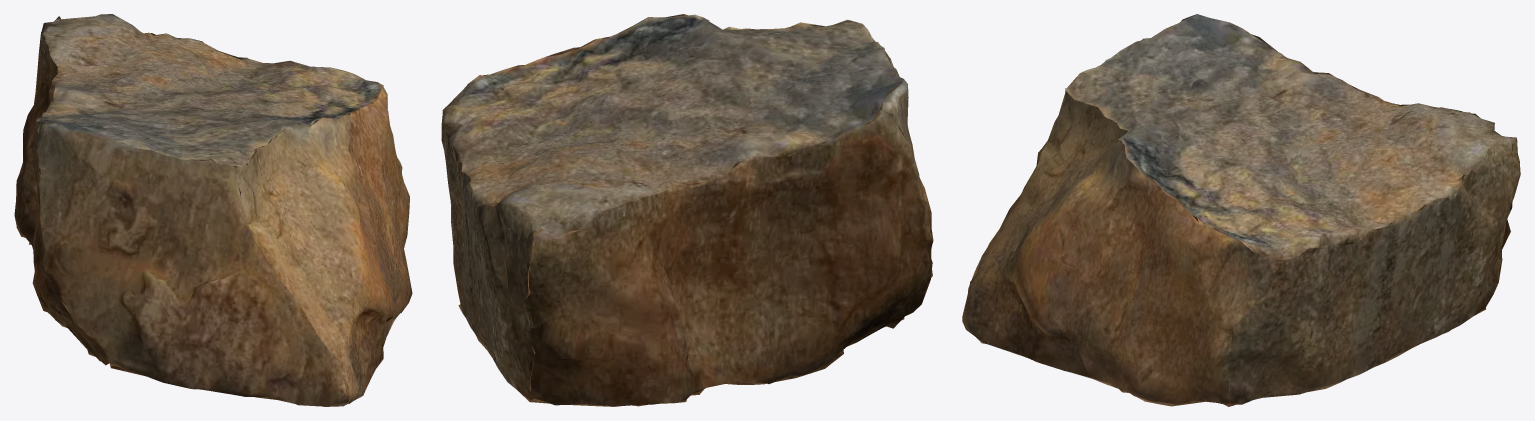
Rendered from namaqualand_boulder_03.glb.
3 renders of one model, left to right at view 1: azimuth 30°, elevation 25°; view 2: azimuth 150°, elevation 25°; view 3: azimuth 270°, elevation 25°, orthographic. The views are drawn at different scales.
Parts seen in each view (by area): view 1: boulder_03_LOD0; view 2: boulder_03_LOD0; view 3: boulder_03_LOD0.
Boxes of the visible parts, left/top/right/bottom form: boulder_03_LOD0: left=14, top=14, right=412, bottom=406; boulder_03_LOD0: left=441, top=14, right=933, bottom=406; boulder_03_LOD0: left=962, top=14, right=1520, bottom=406.
Bounding box in the file's own units: 2.4 × 1.48 × 3.08.
Materials: 1 (1 with a texture image).
